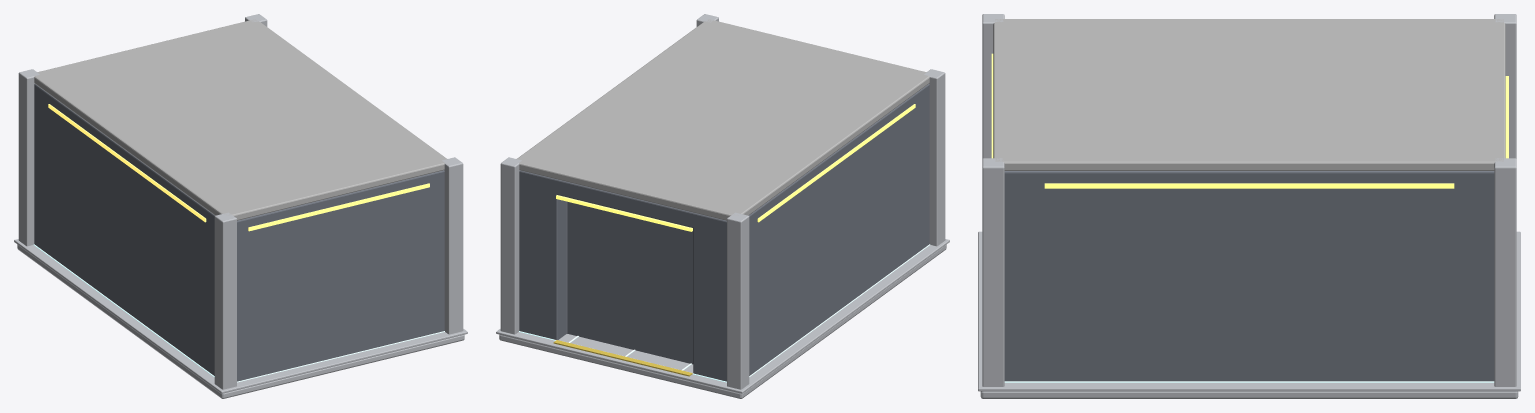
File: hangar_4x6.glb
The picture shows the model from 3 angles, left to right: view 1: azimuth 30°, elevation 25°; view 2: azimuth 150°, elevation 25°; view 3: azimuth 270°, elevation 25°; orthographic projection. The views are drawn at different scales.
Visible parts, largest first — view 1: ext_wall, int_ceiling, int_columns, int_slab_edge, int_slab, ext_stripe3, ext_stripe2, int_grid; view 2: ext_wall, int_ceiling, int_columns, int_slab_edge, int_slab, ext_stripe2, ext_door_hazard, ext_door_glow, int_grid; view 3: ext_wall, int_ceiling, int_columns, int_slab_edge, int_slab, ext_stripe0, int_grid.
Boxes of the visible parts, box(x1,y1,x2,y2) form: ext_wall: box(34, 84, 444, 381); int_ceiling: box(34, 19, 446, 220); int_columns: box(18, 14, 463, 389); int_slab_edge: box(14, 239, 467, 393); int_slab: box(17, 244, 464, 398); ext_stripe3: box(248, 183, 429, 231); ext_stripe2: box(48, 104, 206, 222); int_grid: box(33, 244, 444, 382); ext_wall: box(519, 84, 929, 381); int_ceiling: box(517, 19, 929, 220); int_columns: box(500, 14, 945, 389); int_slab_edge: box(496, 239, 949, 393); int_slab: box(499, 244, 946, 398); ext_stripe2: box(757, 104, 915, 222); ext_door_hazard: box(553, 340, 692, 376); ext_door_glow: box(556, 195, 692, 231); int_grid: box(519, 244, 930, 382); ext_wall: box(1004, 171, 1494, 381); int_ceiling: box(993, 19, 1505, 170); int_columns: box(982, 14, 1516, 386); int_slab_edge: box(978, 231, 1520, 391); int_slab: box(980, 391, 1518, 398); ext_stripe0: box(1044, 183, 1454, 188); int_grid: box(1004, 381, 1494, 382).
Bounding box in the file's own units: 4.36 × 3 × 6.36.
